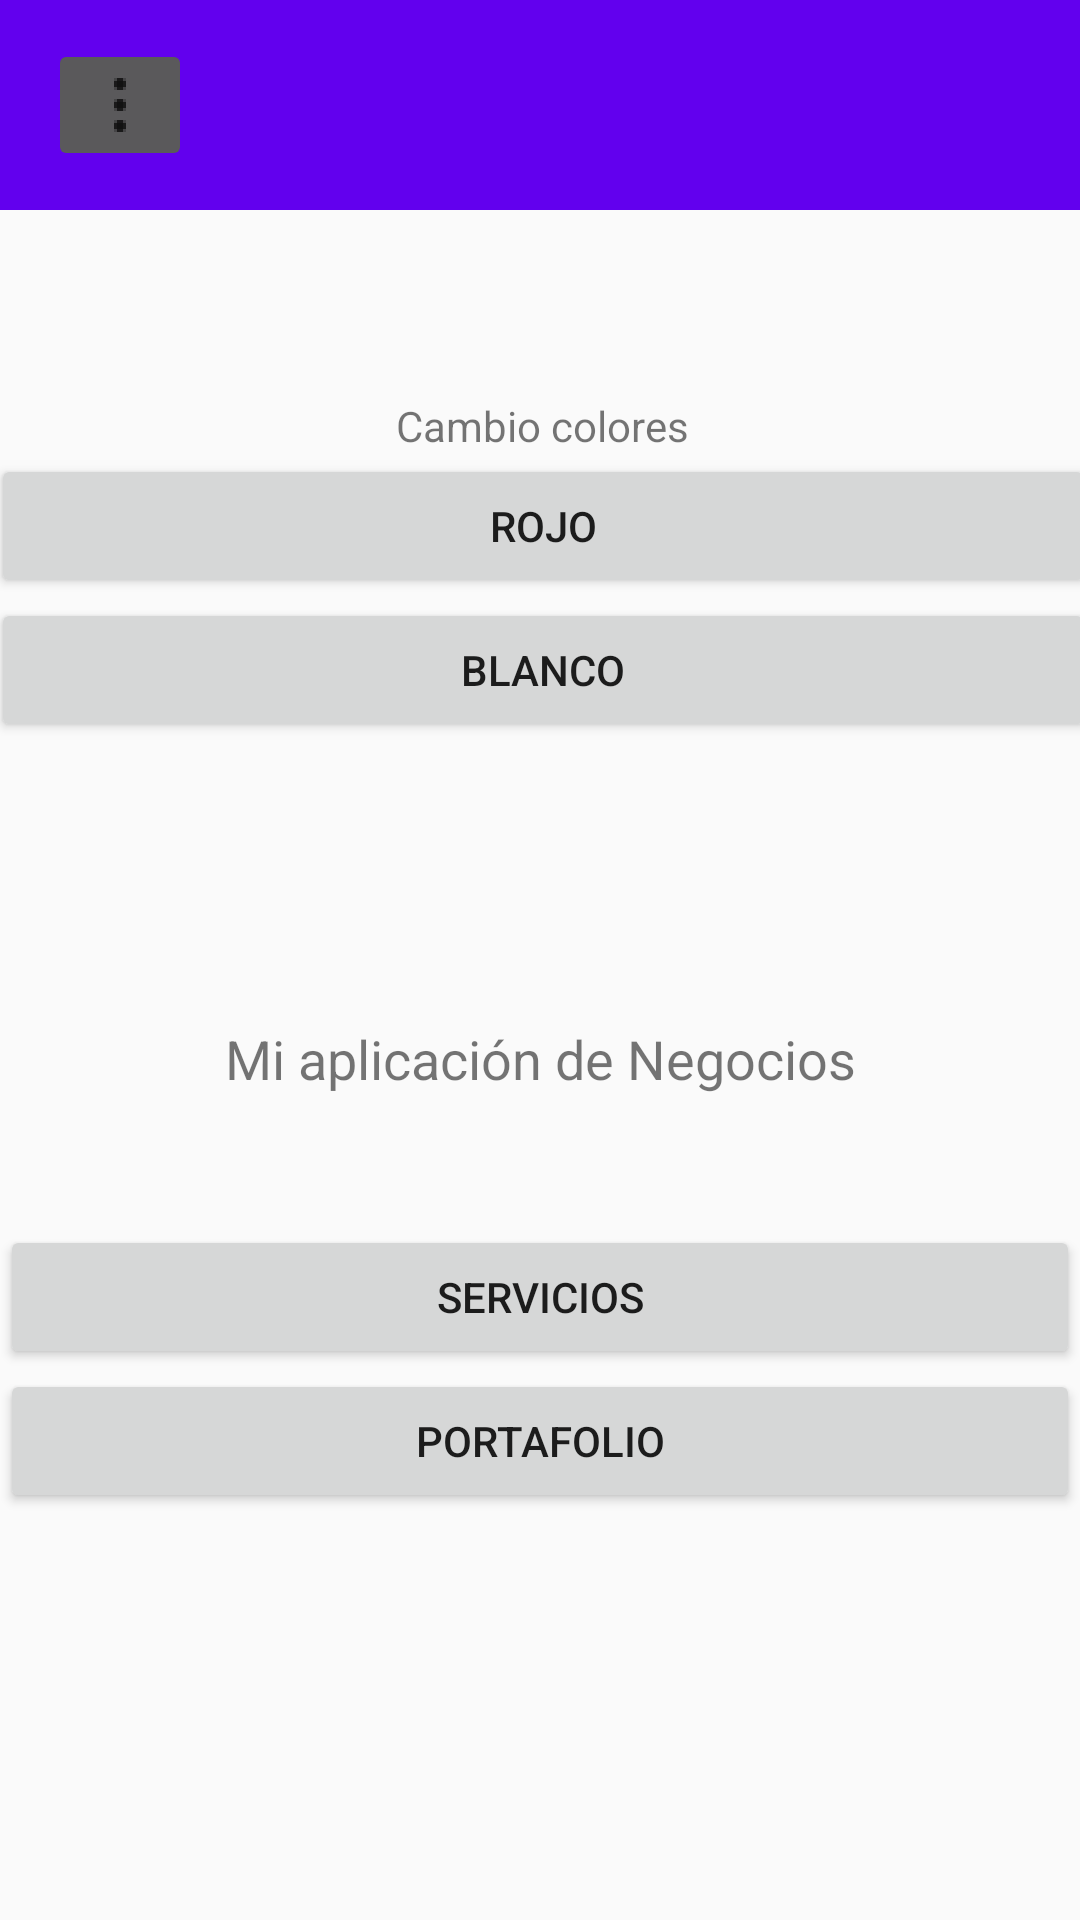

Point at icon controls on the screen. Image size 1080x1920, points as (x,y).
menu: (120,105)
